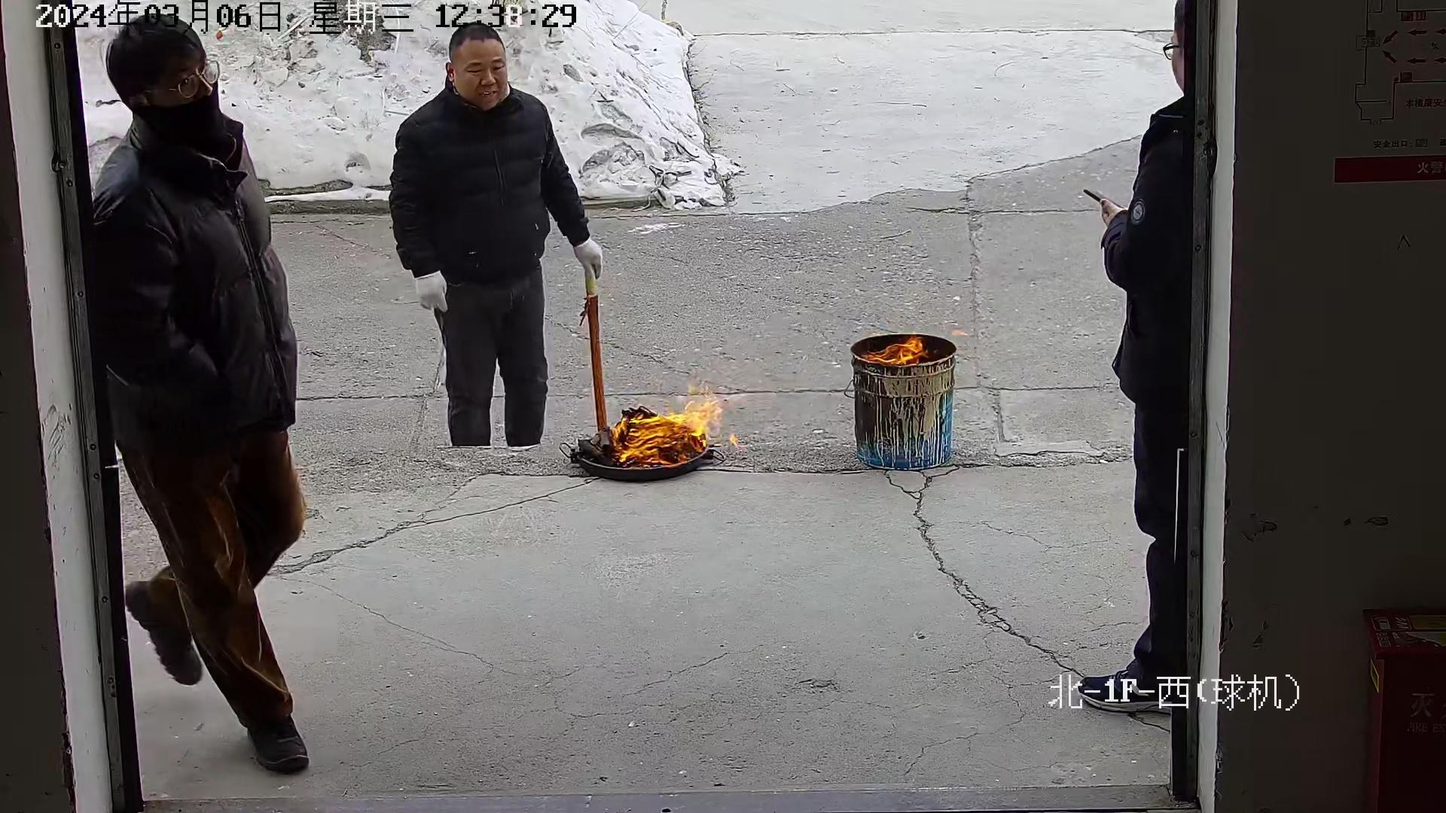fire: (596, 391, 723, 470), (855, 335, 929, 366)
